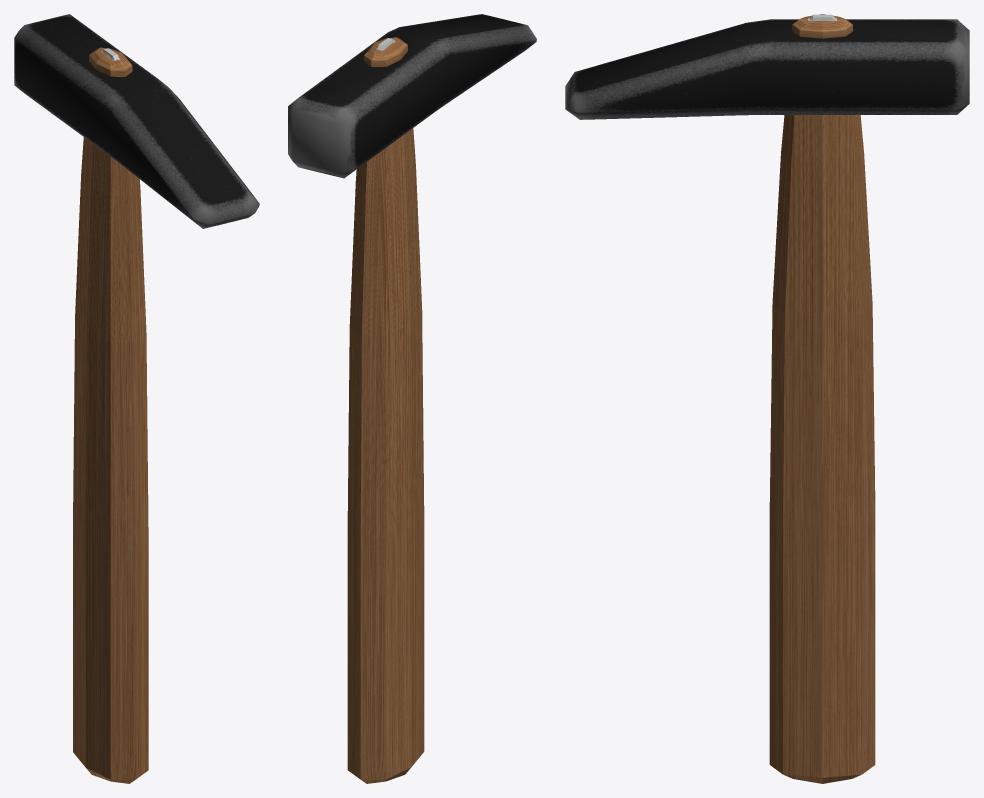
File: hammer.glb
3 renders of one model, left to right at view 1: azimuth 30°, elevation 25°; view 2: azimuth 150°, elevation 25°; view 3: azimuth 270°, elevation 25°, orthographic. The views are drawn at different scales.
Parts seen in each view (by area): view 1: hamLo; view 2: hamLo; view 3: hamLo.
Part boxes in pixels (x1,y1,x2,y2): hamLo: [14, 14, 259, 783]; hamLo: [288, 14, 536, 783]; hamLo: [565, 14, 969, 783].
Bounding box in the file's own units: 2 × 21.12 × 10.16.
Materials: 1 (1 with a texture image).
